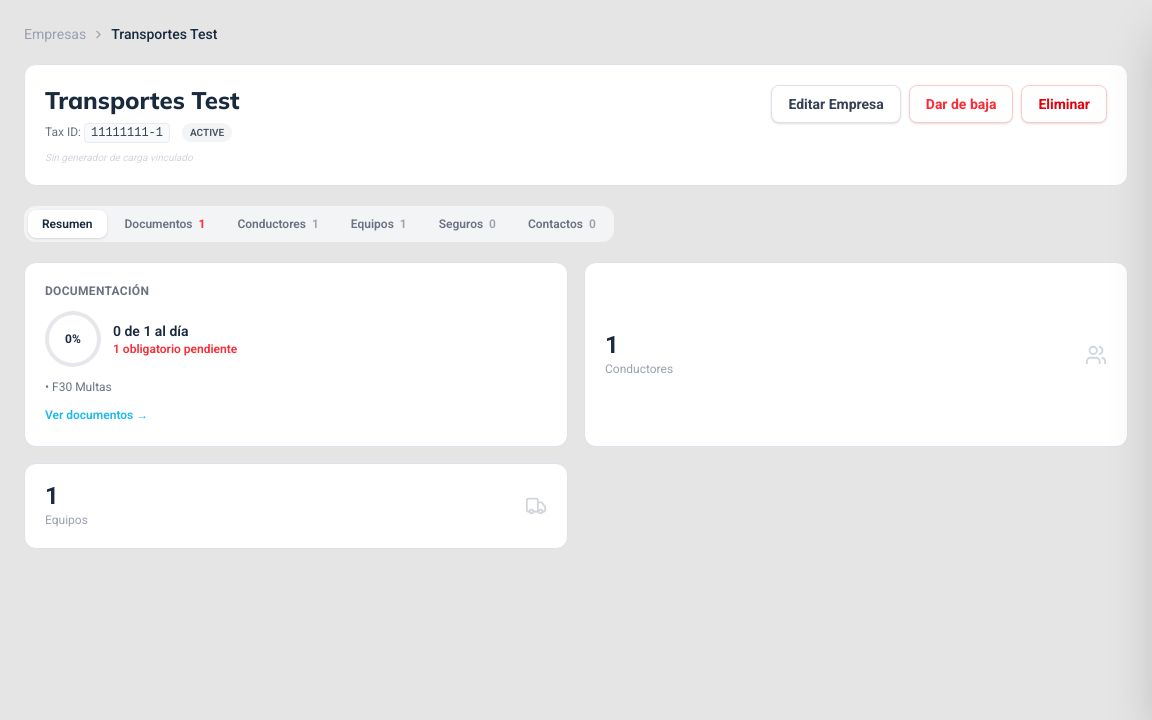
Test: EmpresaDetailPage › shows the driver and equipment rosters in their own tabs
Click the button "Conductores1".
click(278, 224)  # box [223, 210, 333, 238]
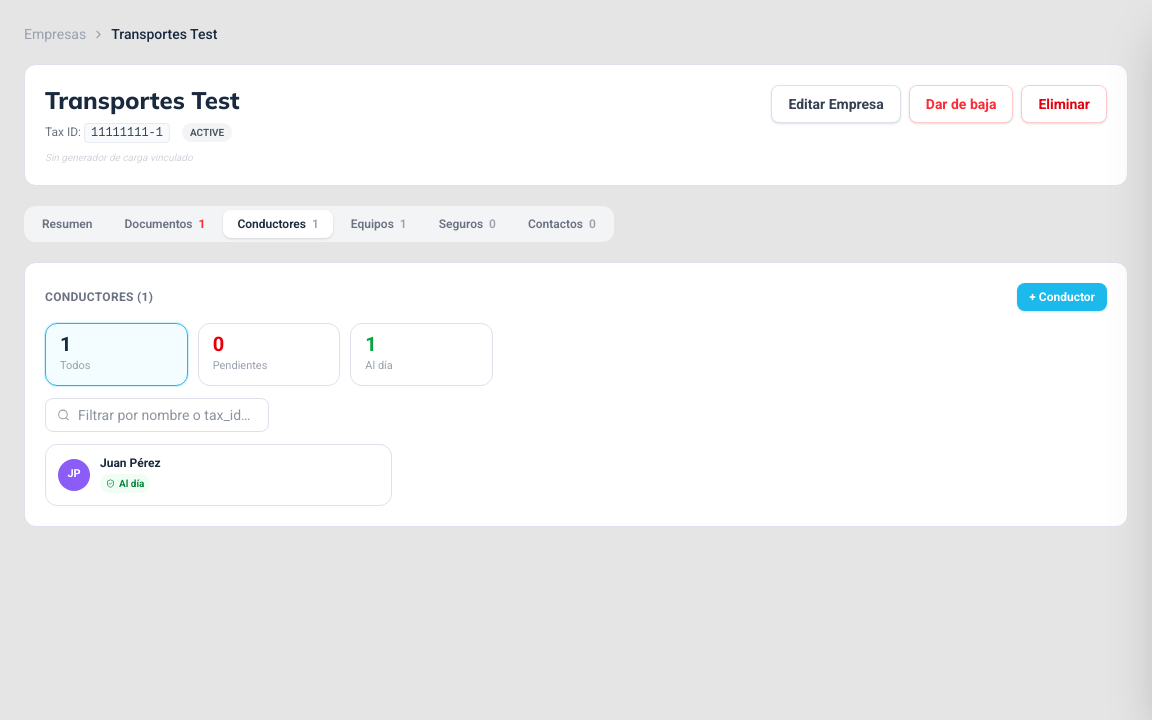
Expected: the text "Juan Pérez" is shown, [100, 456, 161, 470]
Click the button "Equipos1".
click(379, 224)  # box [337, 210, 421, 238]
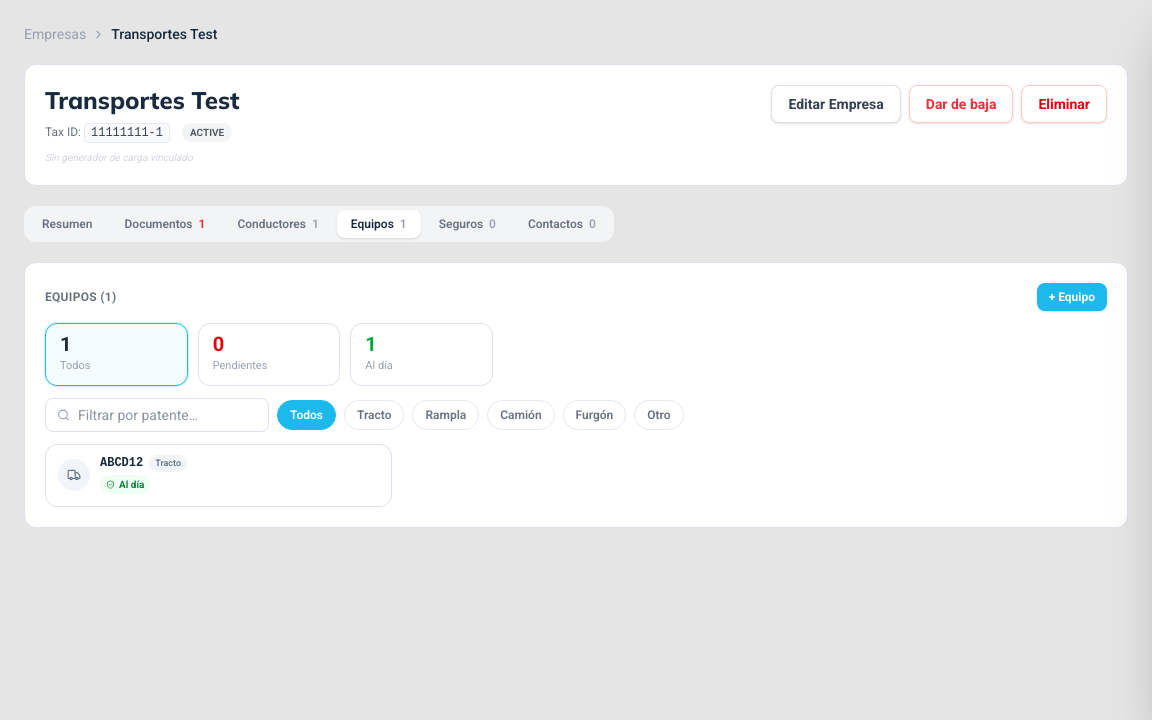
Expected: the text "ABCD12" is shown, [100, 455, 143, 471]
